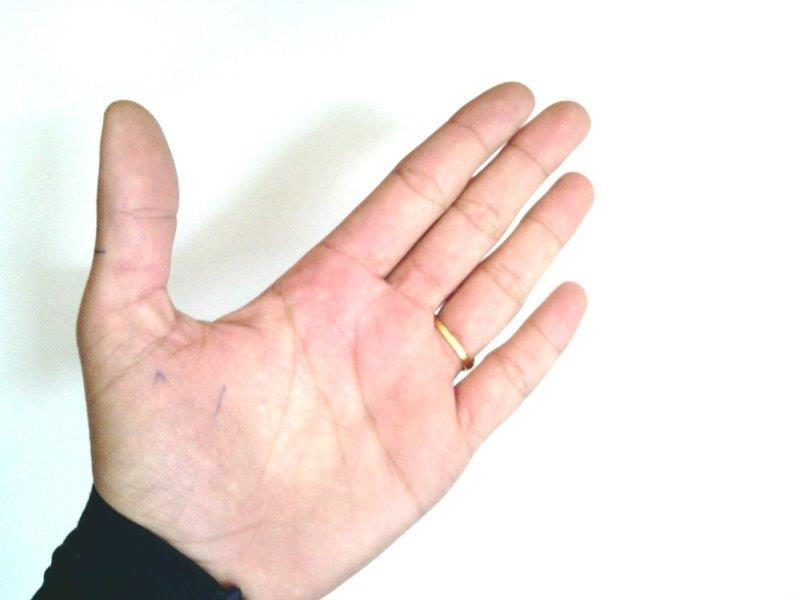hand: (80, 83, 589, 565)
